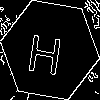H: (25, 25, 66, 76)
